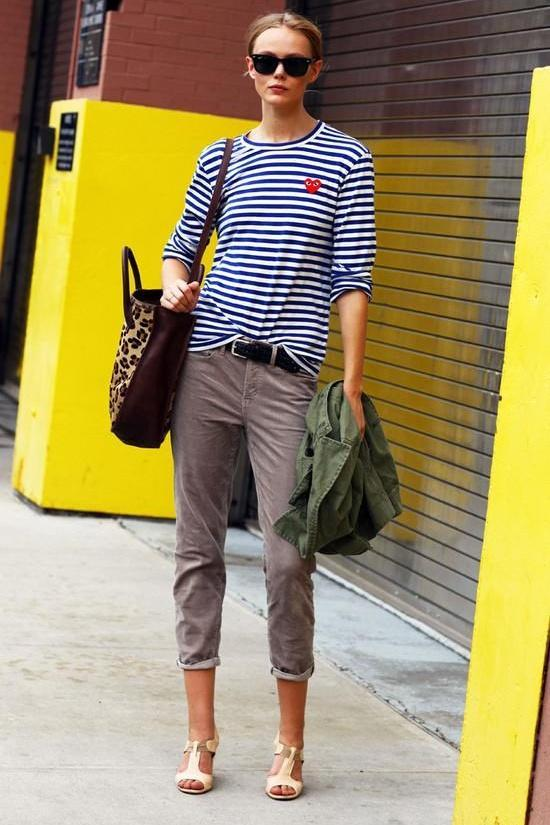Tshirt: (161, 120, 376, 378)
pants: (168, 340, 323, 683)
